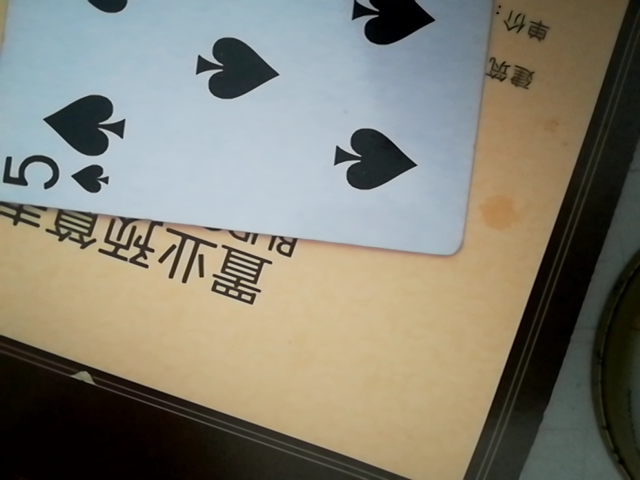ht 5: (0, 0, 504, 255)
